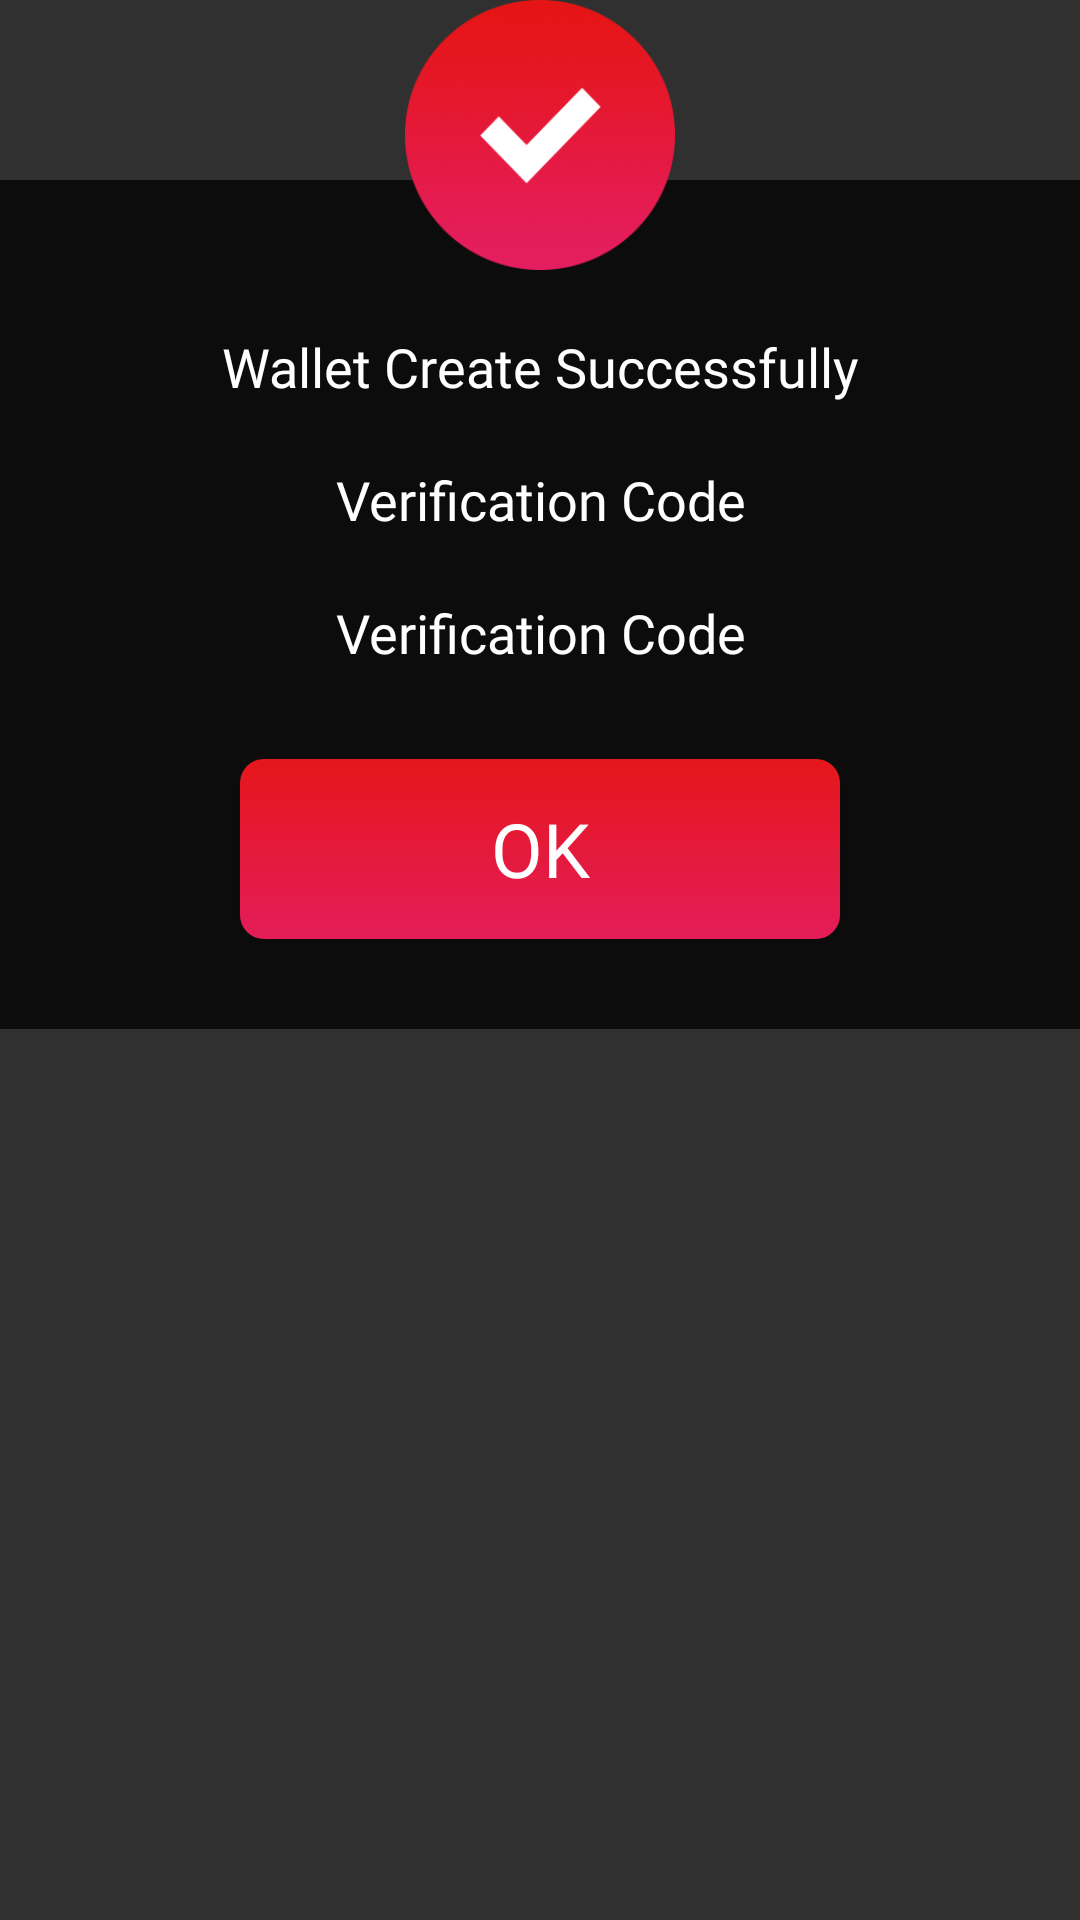

Where to tap for icons on this 1080*1920 app screen, as [x,y]:
done: [540,135]
